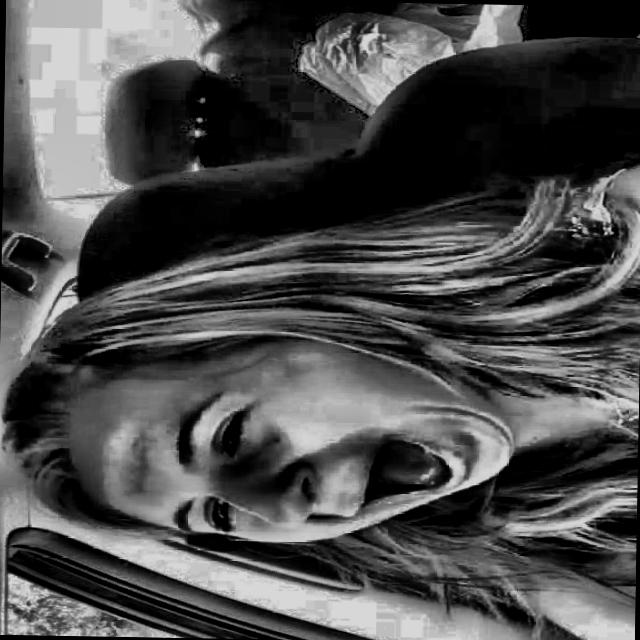open_eyes: (202, 403, 267, 470), (189, 494, 245, 547)
open_mouth: (328, 412, 476, 530)
